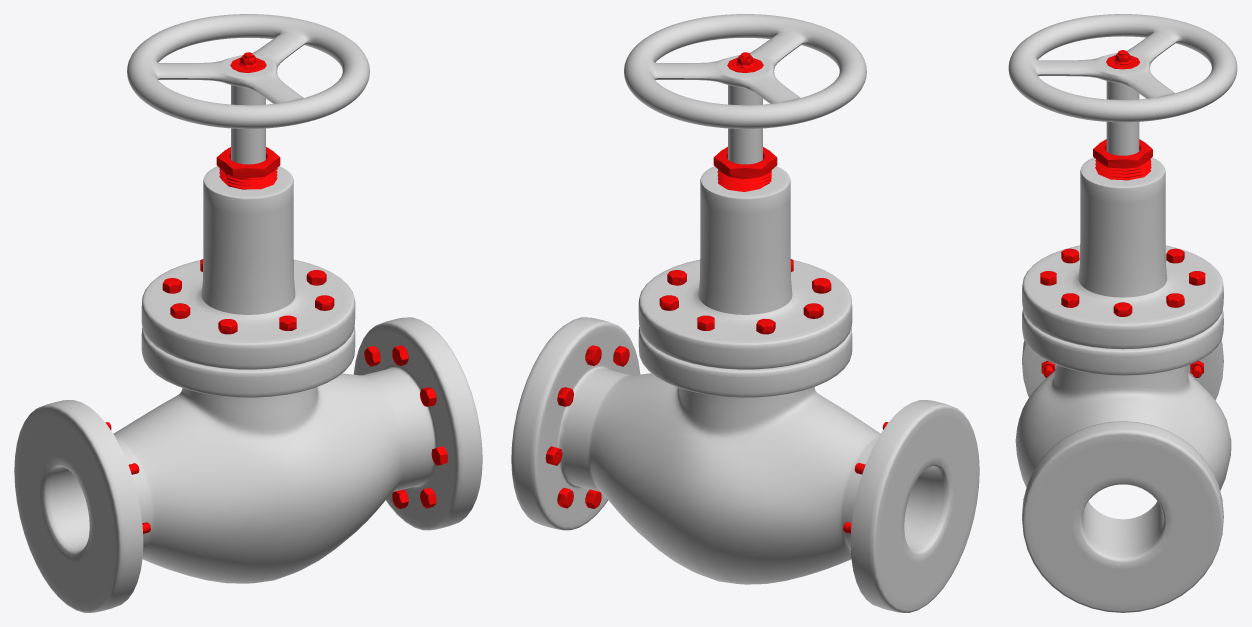
The model's file is 阀门红色材质.gltf.
The picture shows the model from 3 angles, left to right: view 1: azimuth 30°, elevation 25°; view 2: azimuth 150°, elevation 25°; view 3: azimuth 270°, elevation 25°; orthographic projection. The views are drawn at different scales.
Visible parts, largest first — view 1: 阀门, 红色; view 2: 阀门, 红色; view 3: 阀门, 红色.
Part boxes in pixels (x1,y1,x2,y2): 阀门: (14, 14, 482, 612); 红色: (105, 52, 447, 533); 阀门: (511, 14, 979, 612); 红色: (545, 52, 888, 533); 阀门: (1008, 14, 1237, 612); 红色: (1040, 50, 1205, 377).
Size of the model in its own units: 0.00518 by 0.00707 by 0.003.
